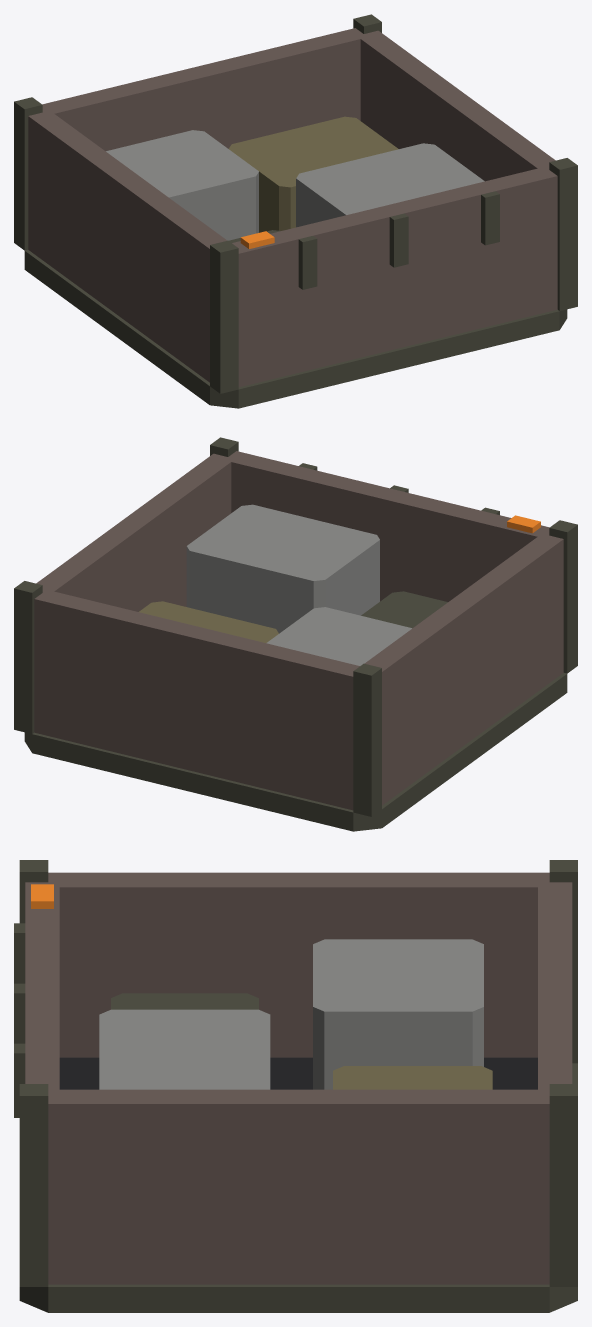
File: ancient_sealed_container_open.obj
3 views of the same model, one above another, from view 1: azimuth 30°, elevation 25°; view 2: azimuth 150°, elevation 25°; view 3: azimuth 270°, elevation 25° (orthographic). The views are drawn at different scales.
Visible parts, largest first — view 1: ancient_sealed_container_open; view 2: ancient_sealed_container_open; view 3: ancient_sealed_container_open.
Part boxes in pixels (x1,y1,x2,y2): ancient_sealed_container_open: [14, 14, 577, 408]; ancient_sealed_container_open: [14, 437, 577, 831]; ancient_sealed_container_open: [14, 860, 577, 1312].
Bounding box in the file's own units: 1.96 × 0.84 × 1.98.
